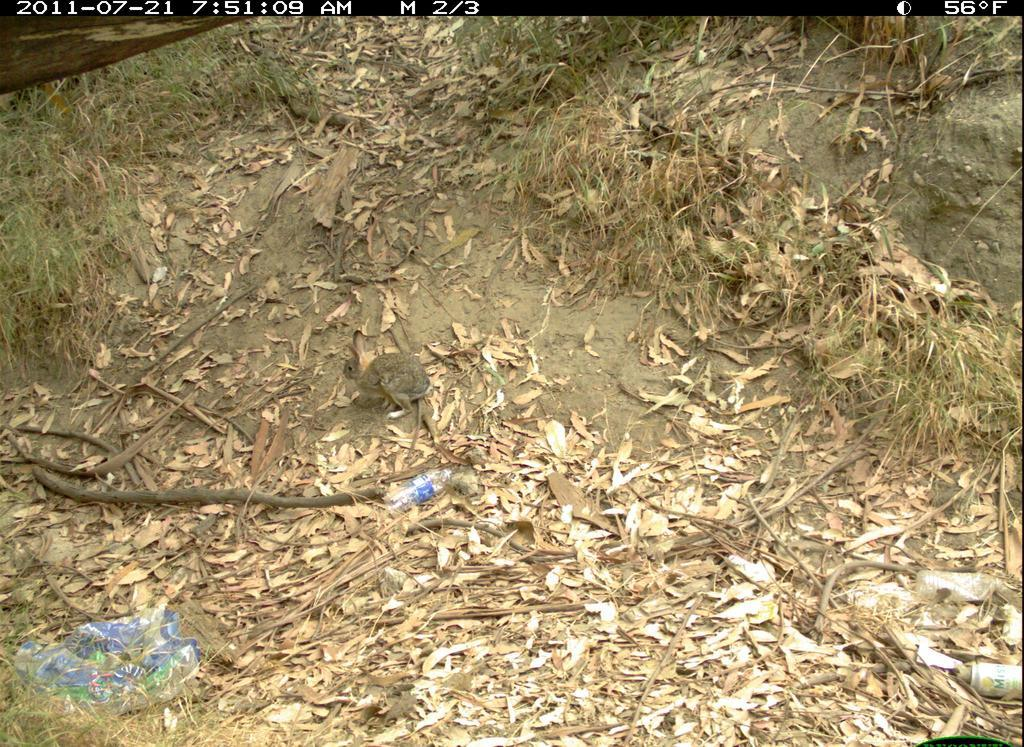rabbit: (340, 323, 449, 427)
